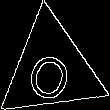O_NE: (23, 36, 79, 101)
